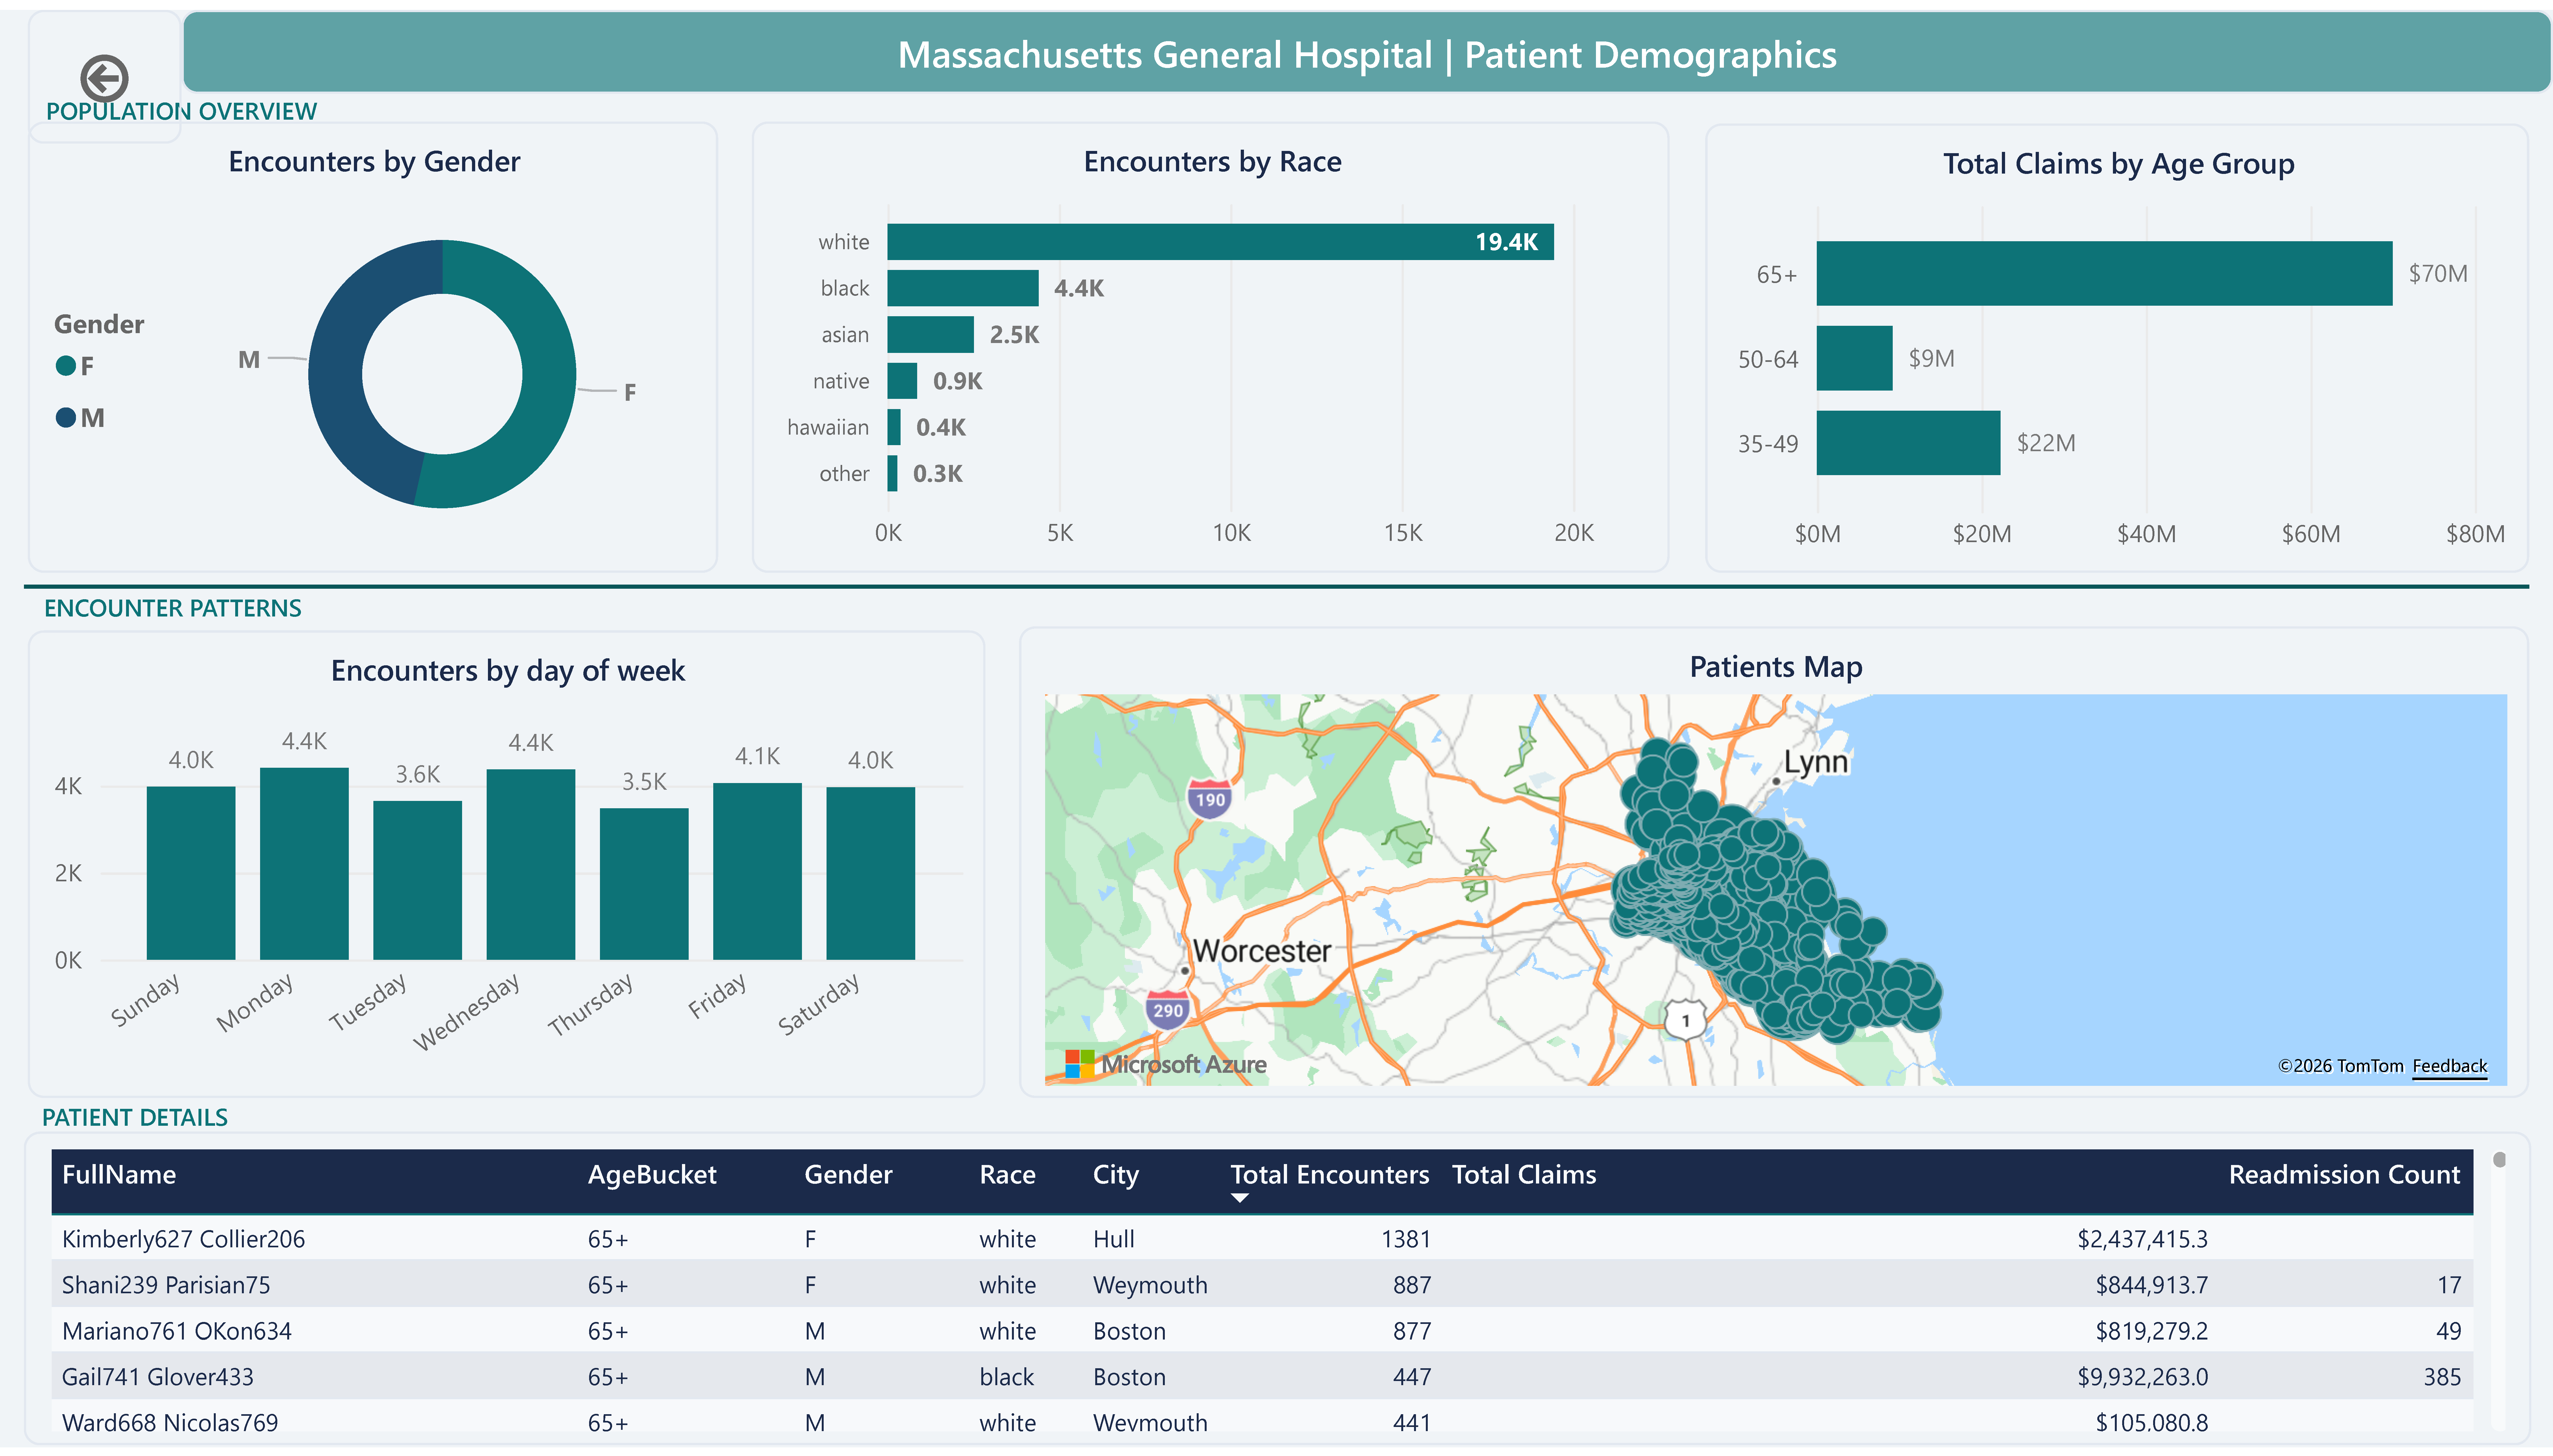

This screenshot's page, from the dashboard's own definition file:
{"tool":"powerbi","page":{"name":"Patient Demographics","canvas":[1280,720],"ordinal":3},"visuals":[{"type":"textbox","box":[90.8,0,1189.2,41.8],"z":0},{"type":"donutChart","title":"Encounters by Gender","fields":{"Category":["DimPatient.Gender"],"Y":["_Measure.Total Encounters"]},"box":[13.6,56.4,345.5,225.5],"z":0},{"type":"textbox","box":[11.5,33.4,214,33.4],"z":1000},{"type":"textbox","box":[10.4,281.9,215.1,34.5],"z":2000},{"type":"clusteredColumnChart","title":"Encounters by day of week","fields":{"Category":["DimDate.DayName"],"Y":["_Measure.Total Encounters"]},"box":[13.7,310.2,479.6,234.4],"z":2000,"group":"g1"},{"type":"textbox","box":[9.2,536.5,215.2,34.8],"z":3000},{"type":"shape","box":[0,277.7,1280,21.9],"z":4000},{"type":"group","id":"g1","title":"Group 2","box":[13.7,308.6,1254.4,236.2],"z":6000},{"type":"clusteredBarChart","title":"Total Claims by Age Group","fields":{"Category":["DimPatient.AgeBucket"],"Y":["_Measure.Total Claims"]},"box":[855.2,56.8,412.9,225.2],"z":6001},{"type":"clusteredBarChart","title":"Encounters by Race","fields":{"Category":["DimPatient.Race"],"Y":["_Measure.Total Encounters"]},"box":[377.1,56.4,460,225.5],"z":6004},{"type":"azureMap","title":"Patients Map","fields":{"Size":["_Measure.Total Encounters"],"Y":["DimPatient.Lat"],"X":["DimPatient.Lon"]},"box":[510.8,308.6,757.2,236.2],"z":6004,"group":"g1"},{"type":"tableEx","title":"Patients Details","fields":{"Values":["DimPatient.FullName","DimPatient.AgeBucket","DimPatient.Gender","DimPatient.Race","DimPatient.City","_Measure.Total Encounters","_Measure.Total Claims","_Measure.Readmission Count"]},"box":[11.9,562.2,1257.1,157.5],"z":6005},{"type":"actionButton","box":[13.6,0,77.3,66.8],"z":6006}]}

Visuals, with their boxes in screenshot pixels (x1, y1, x2, y2), scaled from the page's 1280x720 canvas onto the 2553x1456 screenshot:
textbox: (181,0,2553,85)
"Encounters by Gender" donutChart: (27,114,716,570)
textbox: (23,68,450,135)
textbox: (21,570,450,640)
"Encounters by day of week" clusteredColumnChart: (27,627,984,1101)
textbox: (18,1085,447,1155)
shape: (0,562,2553,606)
"Group 2" group: (27,624,2529,1102)
"Total Claims by Age Group" clusteredBarChart: (1706,115,2529,570)
"Encounters by Race" clusteredBarChart: (752,114,1670,570)
"Patients Map" azureMap: (1019,624,2529,1102)
"Patients Details" tableEx: (24,1137,2531,1455)
actionButton: (27,0,181,135)
